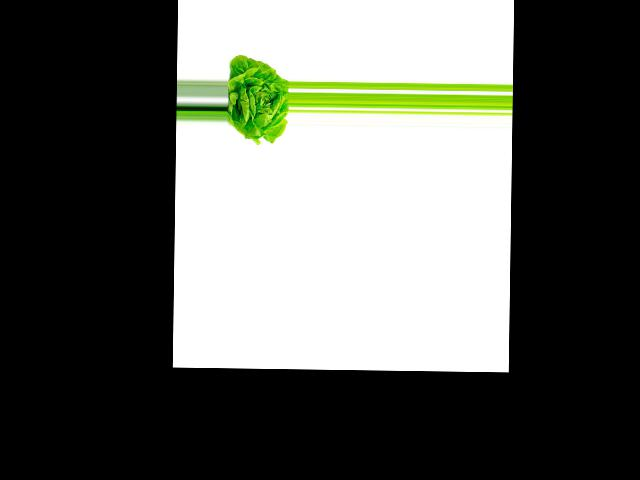lettuce: (226, 53, 289, 141)
